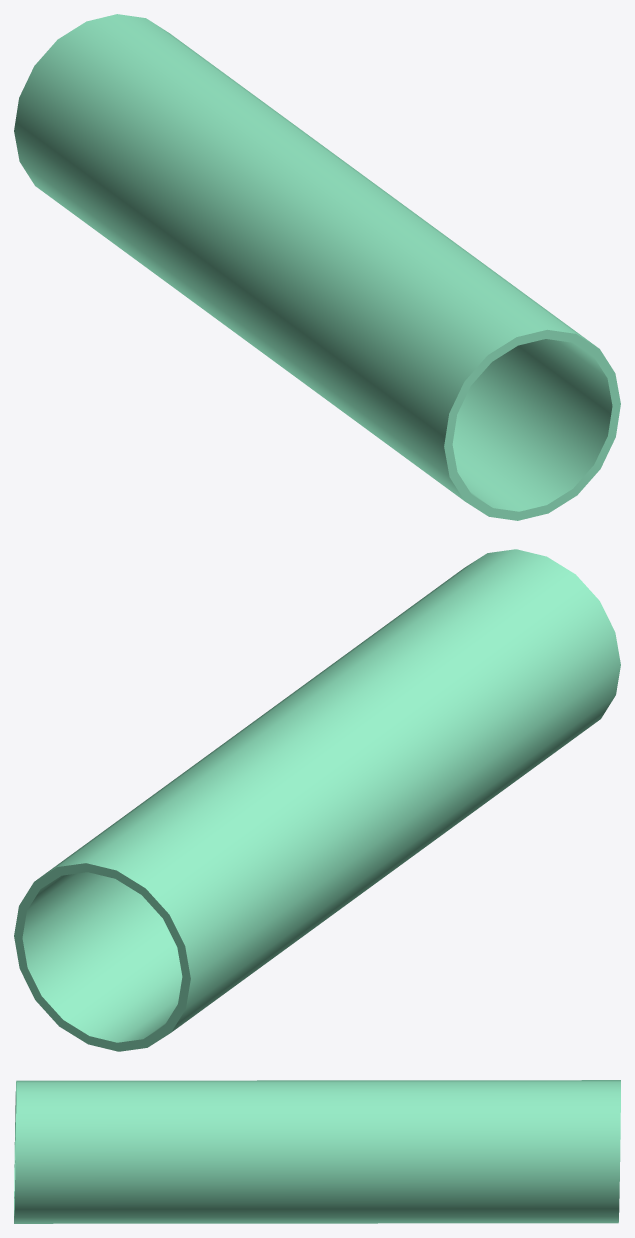
File: warpbakDummy.FBX
3 renders of one model, top to bottom at view 1: azimuth 30°, elevation 25°; view 2: azimuth 150°, elevation 25°; view 3: azimuth 270°, elevation 25°, orthographic. The views are drawn at different scales.
Parts seen in each view (by area): view 1: Tube001; view 2: Tube001; view 3: Tube001.
Boxes of the visible parts, bbox=[...] form: Tube001: bbox=[14, 14, 620, 520]; Tube001: bbox=[14, 549, 620, 1051]; Tube001: bbox=[14, 1080, 620, 1223].
Bounding box in the file's own units: 1893 × 8003 × 1875.
